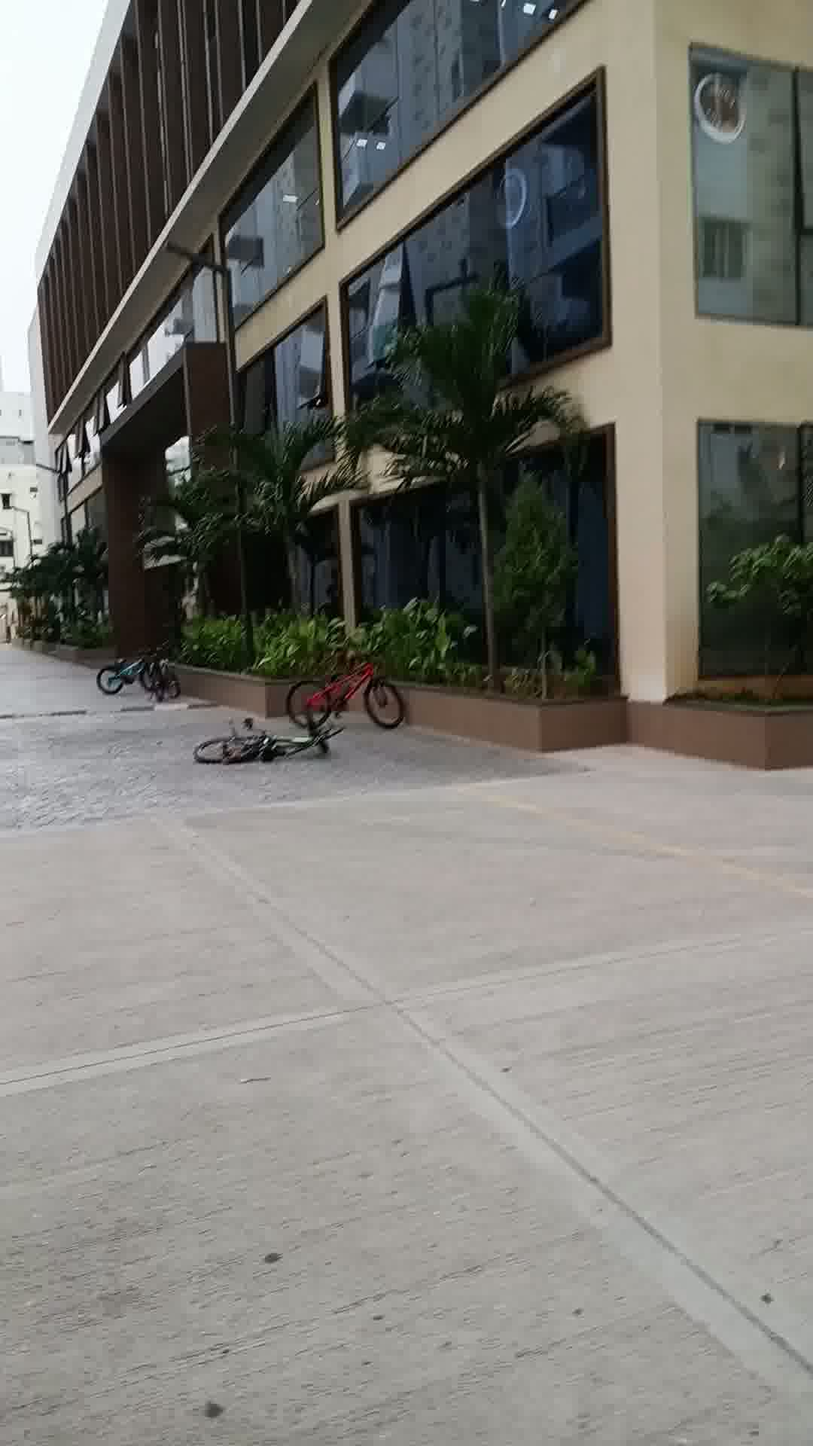bicycle: (277, 644, 419, 731), (179, 721, 351, 766), (89, 644, 198, 709)
tree: (367, 319, 593, 699), (196, 411, 359, 664), (128, 471, 240, 653), (56, 527, 116, 651)
